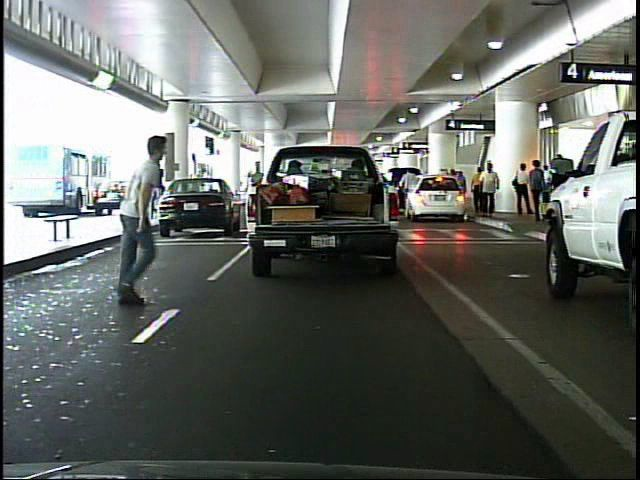person: (84, 125, 190, 317), (471, 156, 498, 223), (147, 157, 169, 219), (509, 159, 532, 218), (531, 158, 547, 225)
